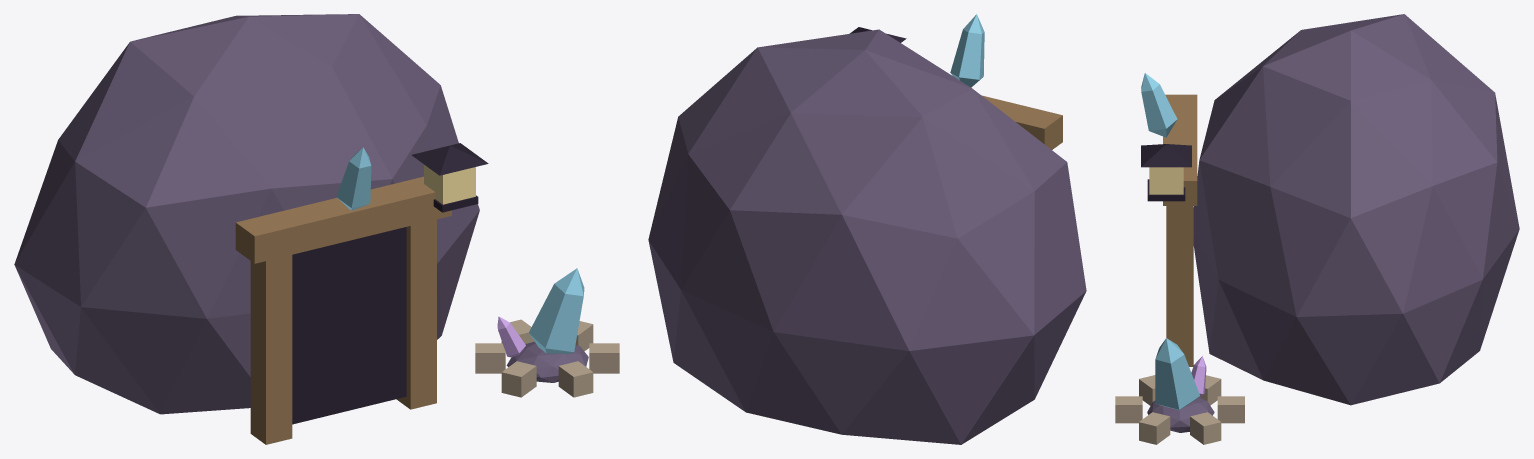
Rendered from cave-landmark-s2.glb.
3 views of the same model, side by side, from view 1: azimuth 30°, elevation 25°; view 2: azimuth 150°, elevation 25°; view 3: azimuth 270°, elevation 25° (orthographic). The views are drawn at different scales.
Visible parts, largest first — view 1: cave-landmark-s2; view 2: cave-landmark-s2; view 3: cave-landmark-s2.
Boxes of the visible parts, left/top/right/bottom form: cave-landmark-s2: left=14, top=14, right=619, bottom=444; cave-landmark-s2: left=648, top=14, right=1086, bottom=444; cave-landmark-s2: left=1115, top=14, right=1519, bottom=444.
Size of the model in its own units: 1.42 by 0.9666 by 1.18.
